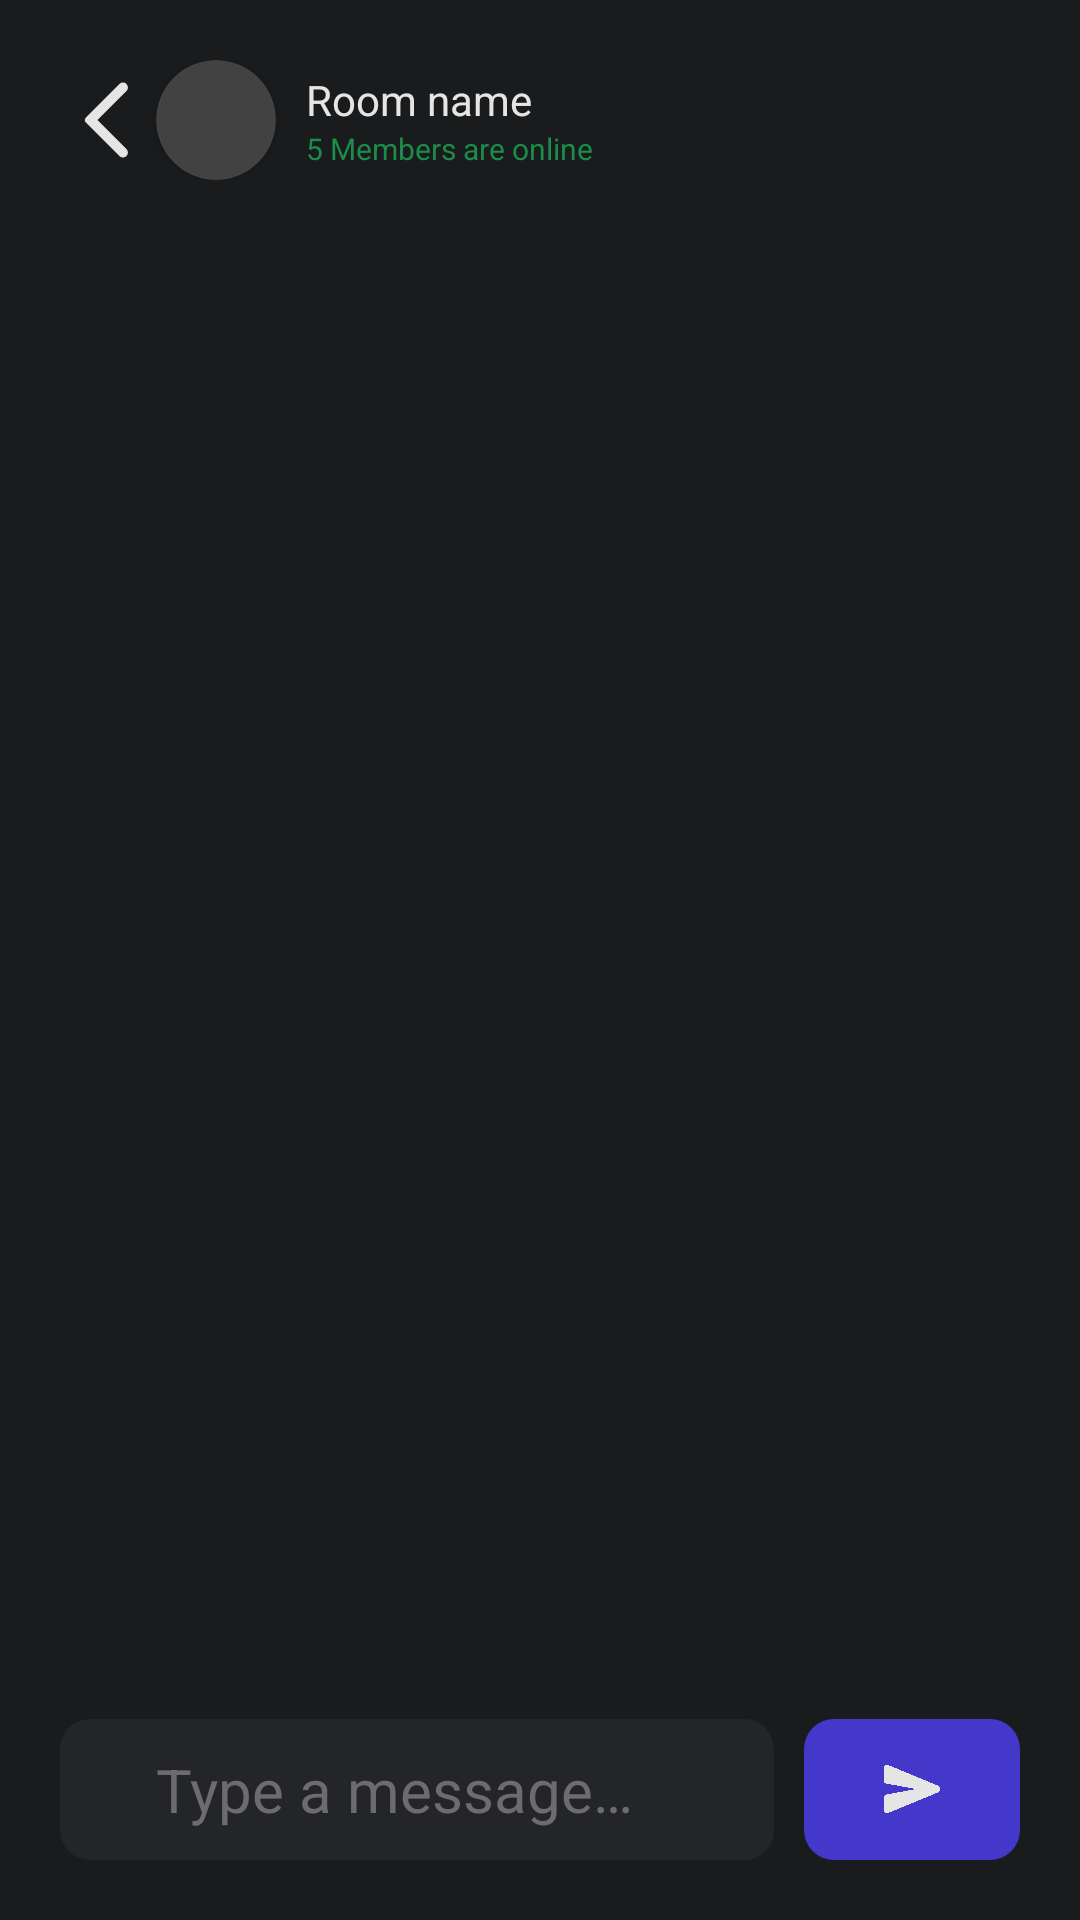

Icon bounding boxes for this 1080w x 1920h phone screenshot, format (x1, y1, x2, y2):
left arrow: (84, 82, 128, 158)
send: (884, 1765, 940, 1813)
